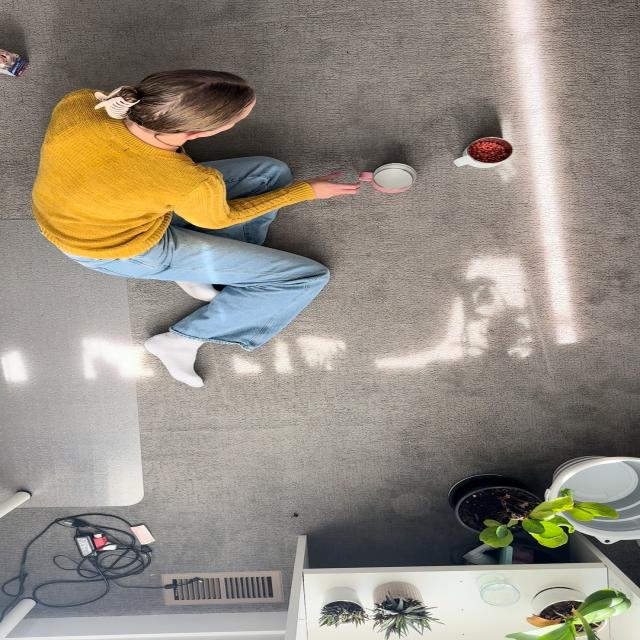IBC: (454, 137, 513, 167), (360, 163, 417, 193)
